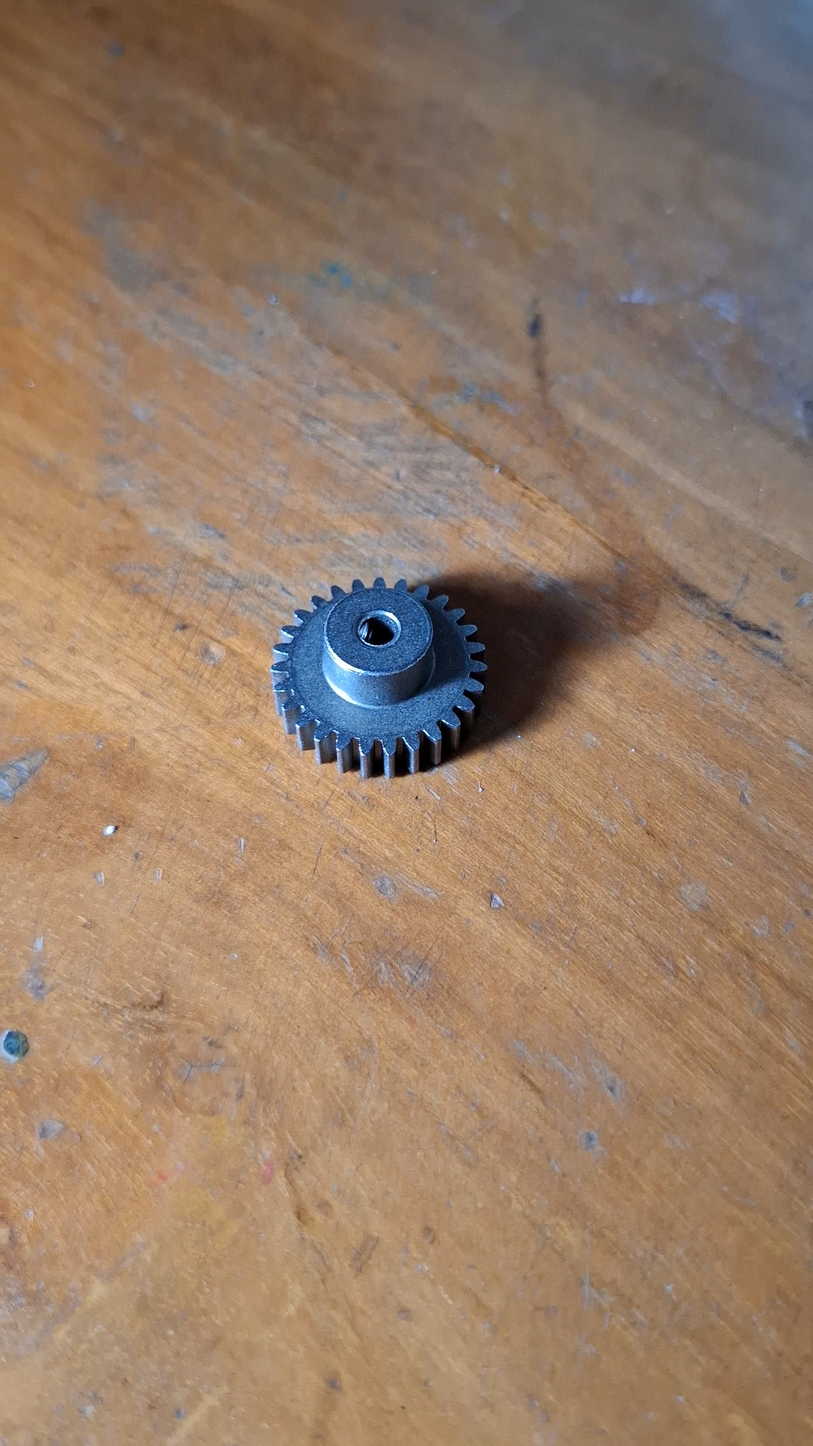spur gear: (271, 578, 485, 776)
